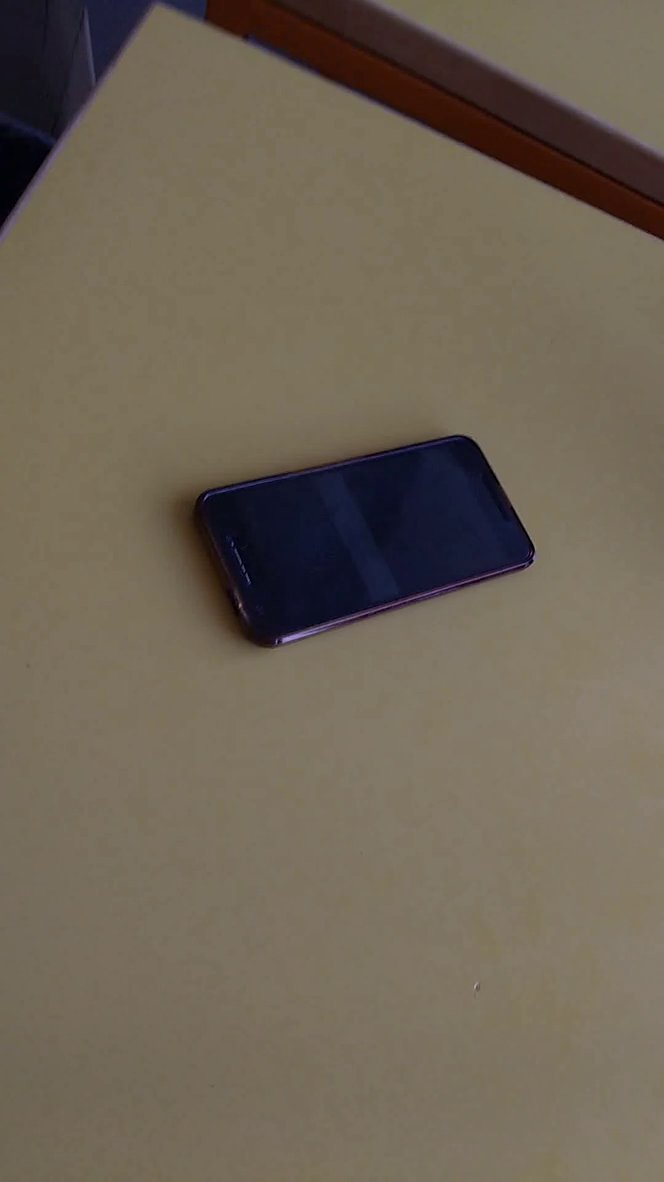phone: (185, 423, 554, 661)
